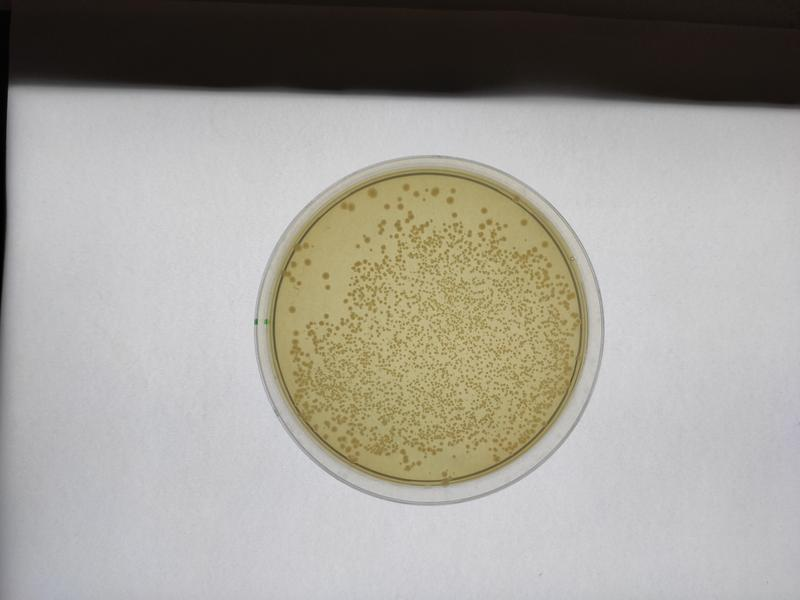colony: (516, 214, 531, 231), (475, 202, 491, 216), (282, 303, 298, 315), (318, 267, 332, 280), (299, 255, 313, 268), (399, 180, 412, 193)
